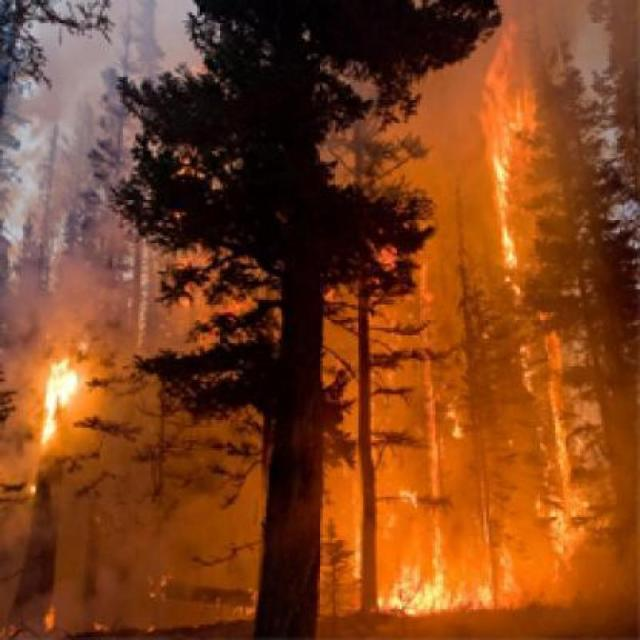Fire: (300, 234, 640, 628), (20, 314, 108, 489), (9, 565, 94, 640)
